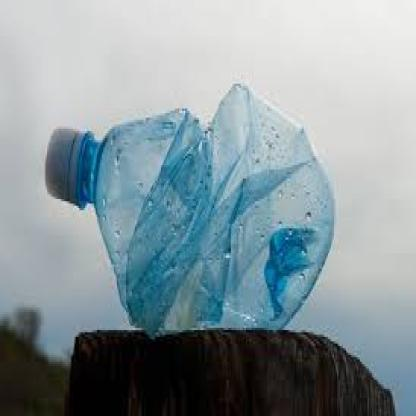Glass Bottle: (40, 82, 338, 342)
